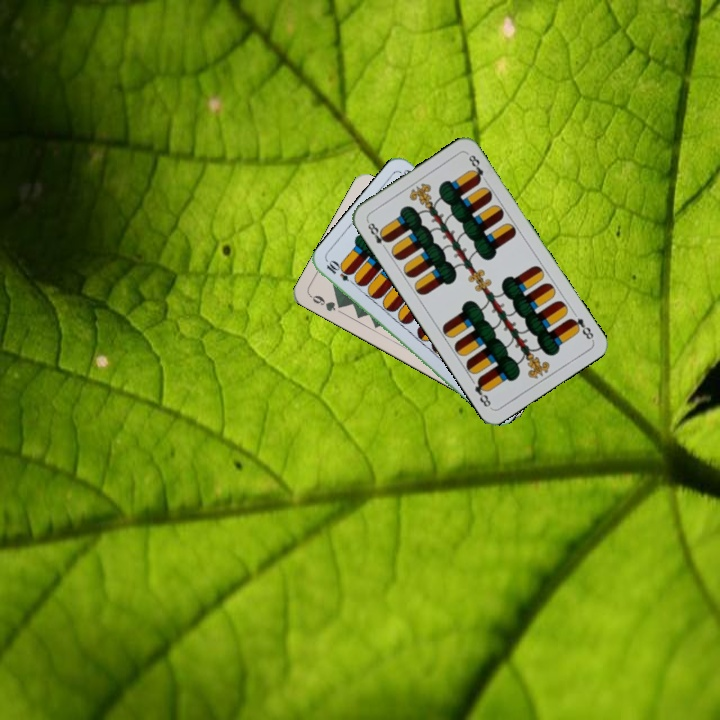E10: (322, 257, 359, 288)
E8: (363, 217, 392, 253), (565, 314, 596, 343)
G9: (306, 291, 347, 314)
